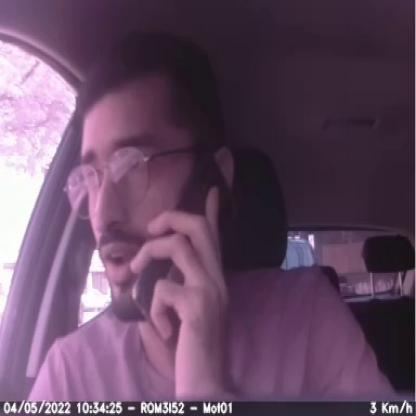phone: (139, 152, 240, 355)
